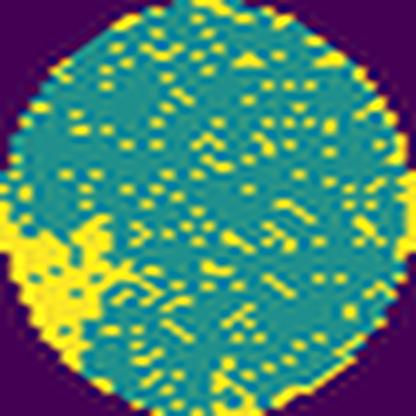Edge-Loc: (0, 202, 149, 373)
